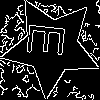E: (26, 21, 75, 59)
